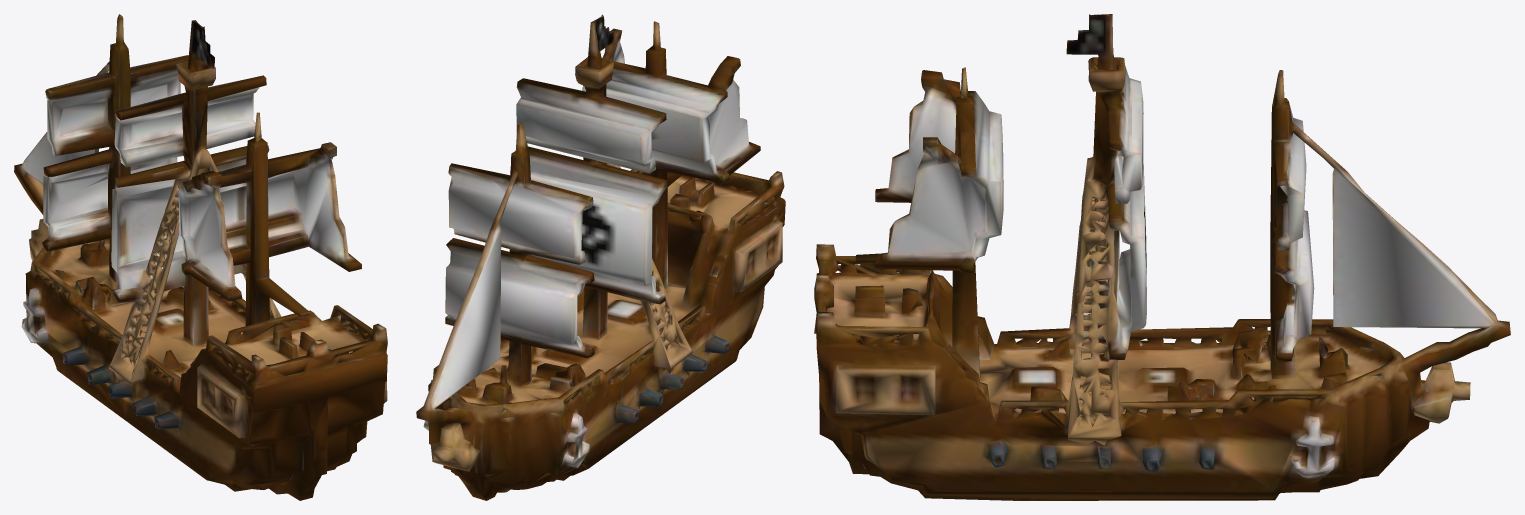
File: pirate-ship.glb
3 views of the same model, side by side, from view 1: azimuth 30°, elevation 25°; view 2: azimuth 150°, elevation 25°; view 3: azimuth 270°, elevation 25° (orthographic). The views are drawn at different scales.
Parts seen in each view (by area): view 1: pirate-ship; view 2: pirate-ship; view 3: pirate-ship.
Boxes of the visible parts, x1,y1,x2,y2 form: pirate-ship: (14, 14, 387, 500); pirate-ship: (416, 14, 785, 500); pirate-ship: (814, 14, 1510, 500).
Size of the model in its own units: 4.96 by 11.23 by 15.
2 materials, 2 textured.
